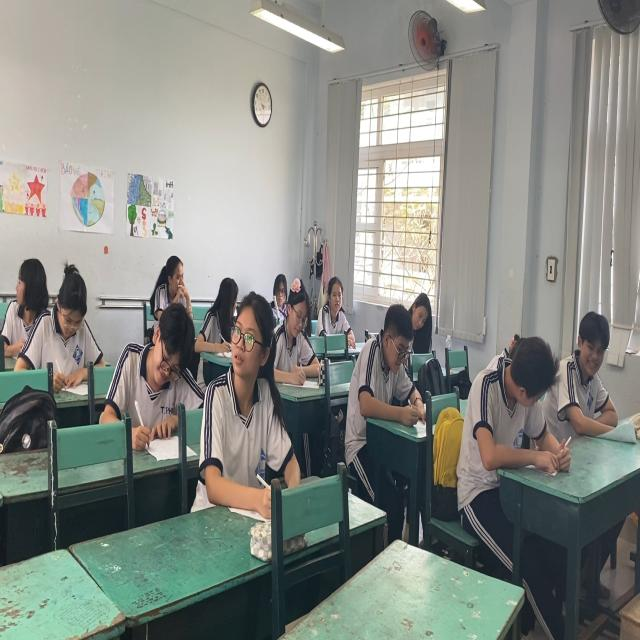cheating: (215, 294, 289, 480), (7, 252, 50, 328), (203, 268, 237, 358)
not_cheating: (486, 334, 560, 490), (126, 302, 202, 436), (557, 306, 622, 440), (44, 265, 109, 387), (363, 294, 417, 420), (281, 282, 320, 387), (315, 272, 357, 338), (150, 251, 192, 315), (406, 284, 432, 351), (268, 268, 289, 318)
